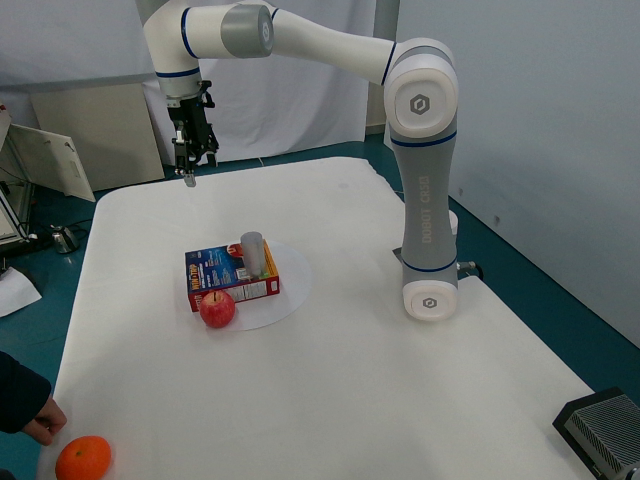apple: (196, 282, 243, 335)
metalROD: (235, 225, 273, 279)
